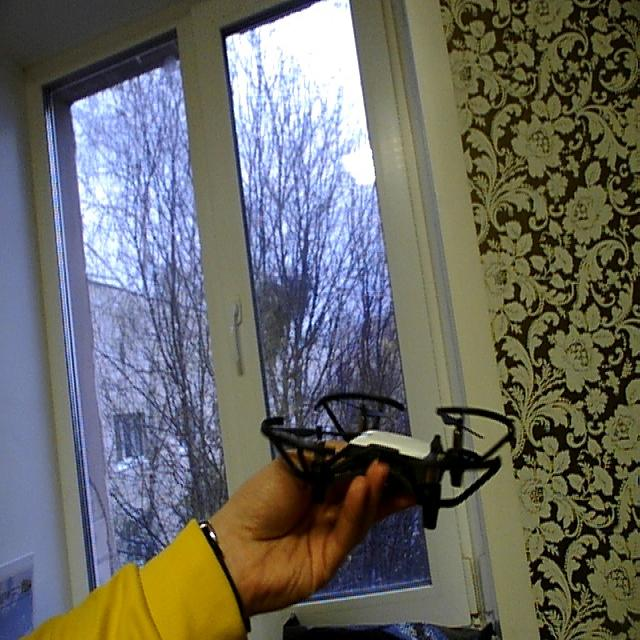drone: (262, 373, 521, 544)
